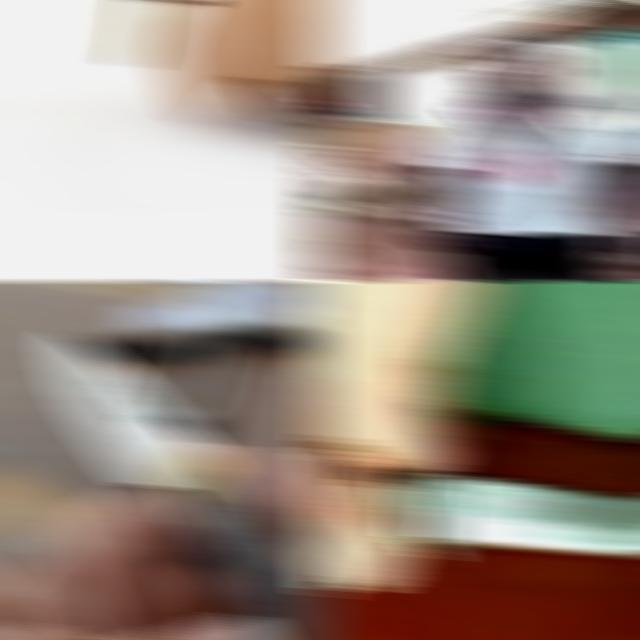Knife: (51, 333, 332, 640), (594, 244, 640, 274)
Knife_Handle: (308, 362, 640, 600), (590, 226, 640, 276)
